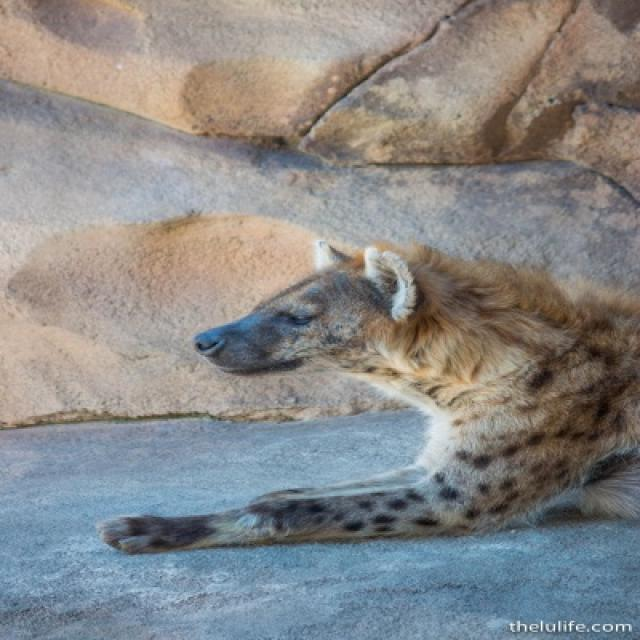hyena: (96, 240, 638, 557)
